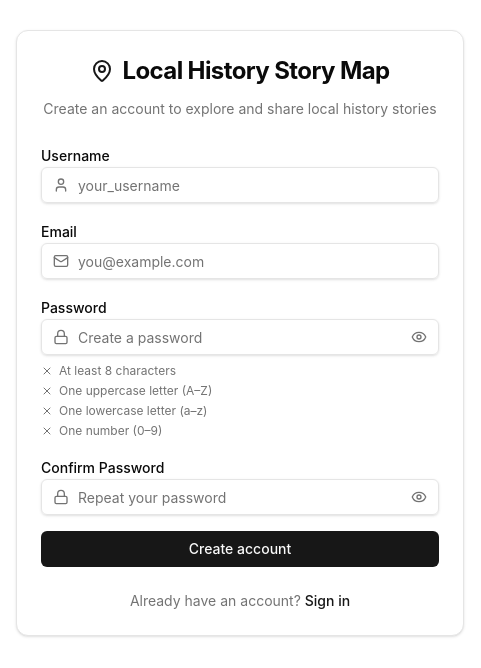
Scenario: RegisterPage › shows error when username is empty
In the field labelled "Email": {"x": 240, "y": 261} [41,243,439,279], type "test@example.com"
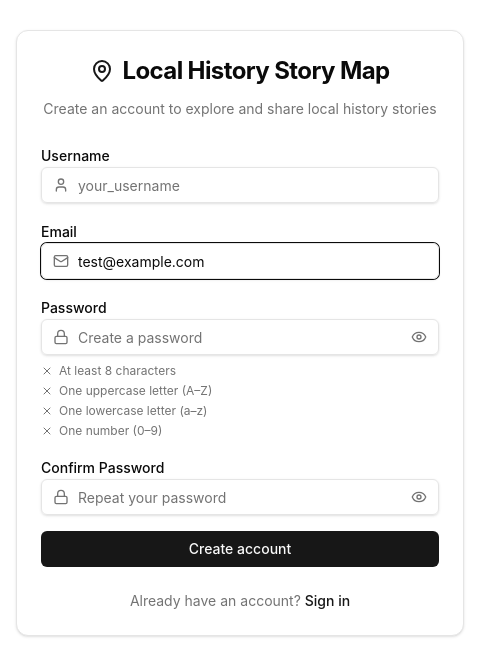
In the password field labelled "Password": {"x": 240, "y": 337} [41,319,439,355], type "Password1"
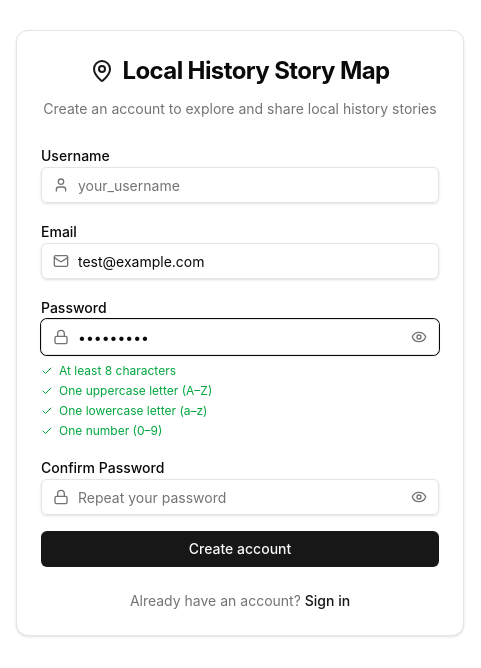
In the password field labelled "Confirm Password": {"x": 240, "y": 497} [41,479,439,515], type "Password1"
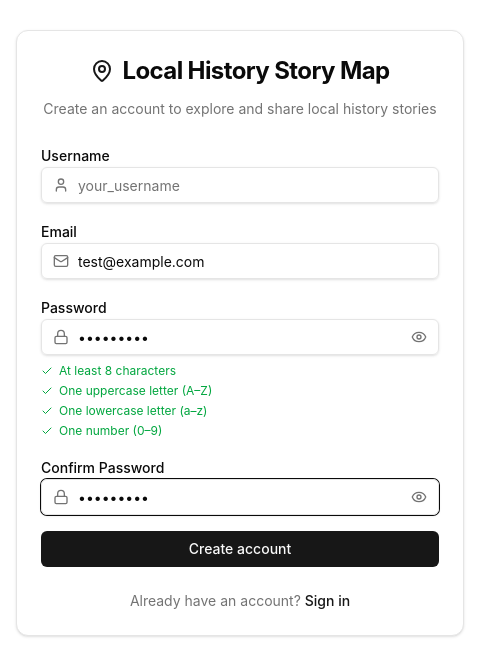
Click the button "Create account": {"x": 240, "y": 549} [41,531,439,567]
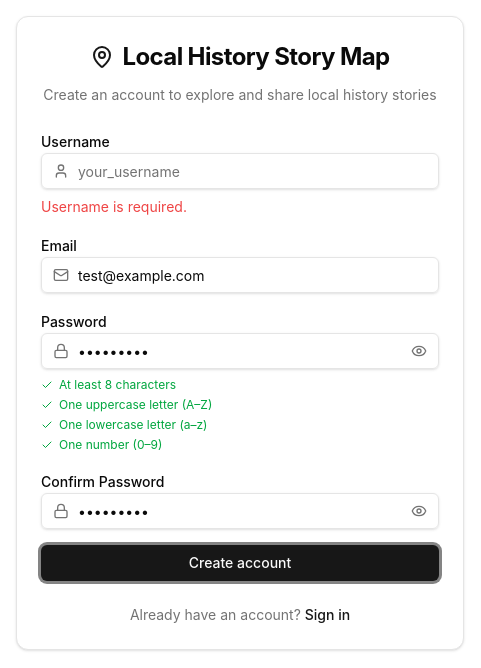
Expected: the text "Username is required." is shown, [41,198,187,215]
